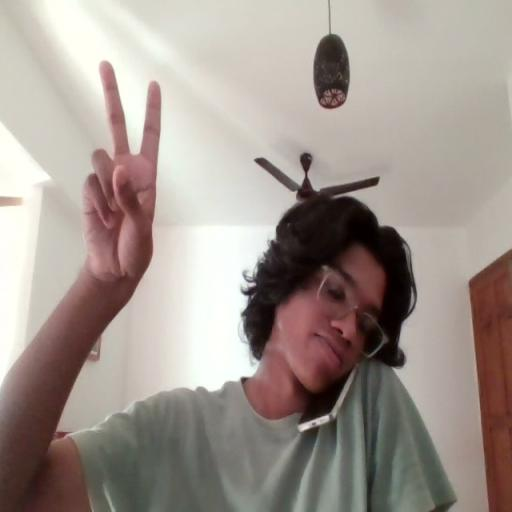scissor: (76, 57, 169, 284)
